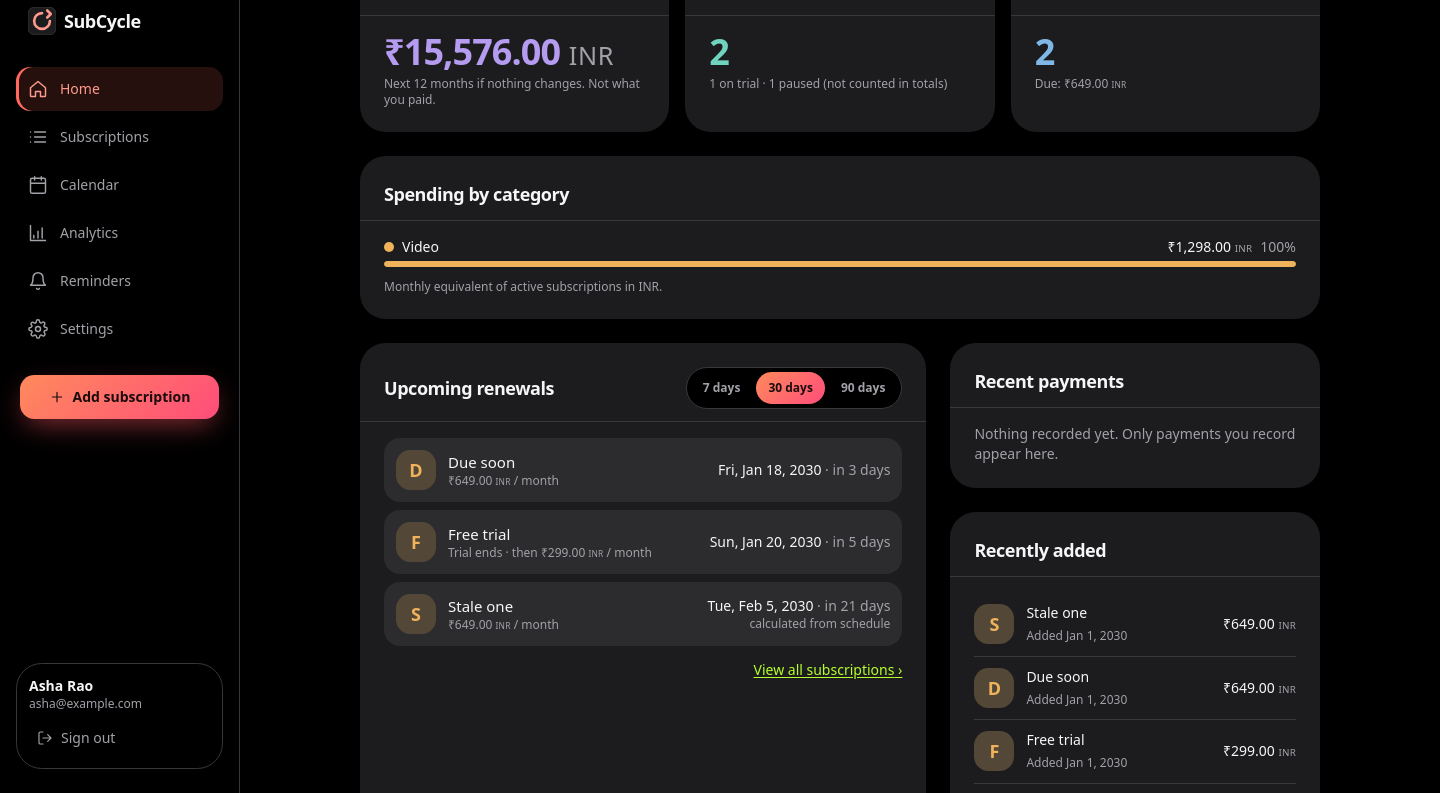
Test: upcoming renewals use the effective date › the window control filters the list (7 / 30 / 90 days)
This screenshot has width=1440, height=793.
(page scrolled)
Check: the text "Stale one" next to "Tue, Feb 5, 2030" is shown, box [448,596,513,616]
Click the button "7 days" at [722, 388], box [691,372,752,404]
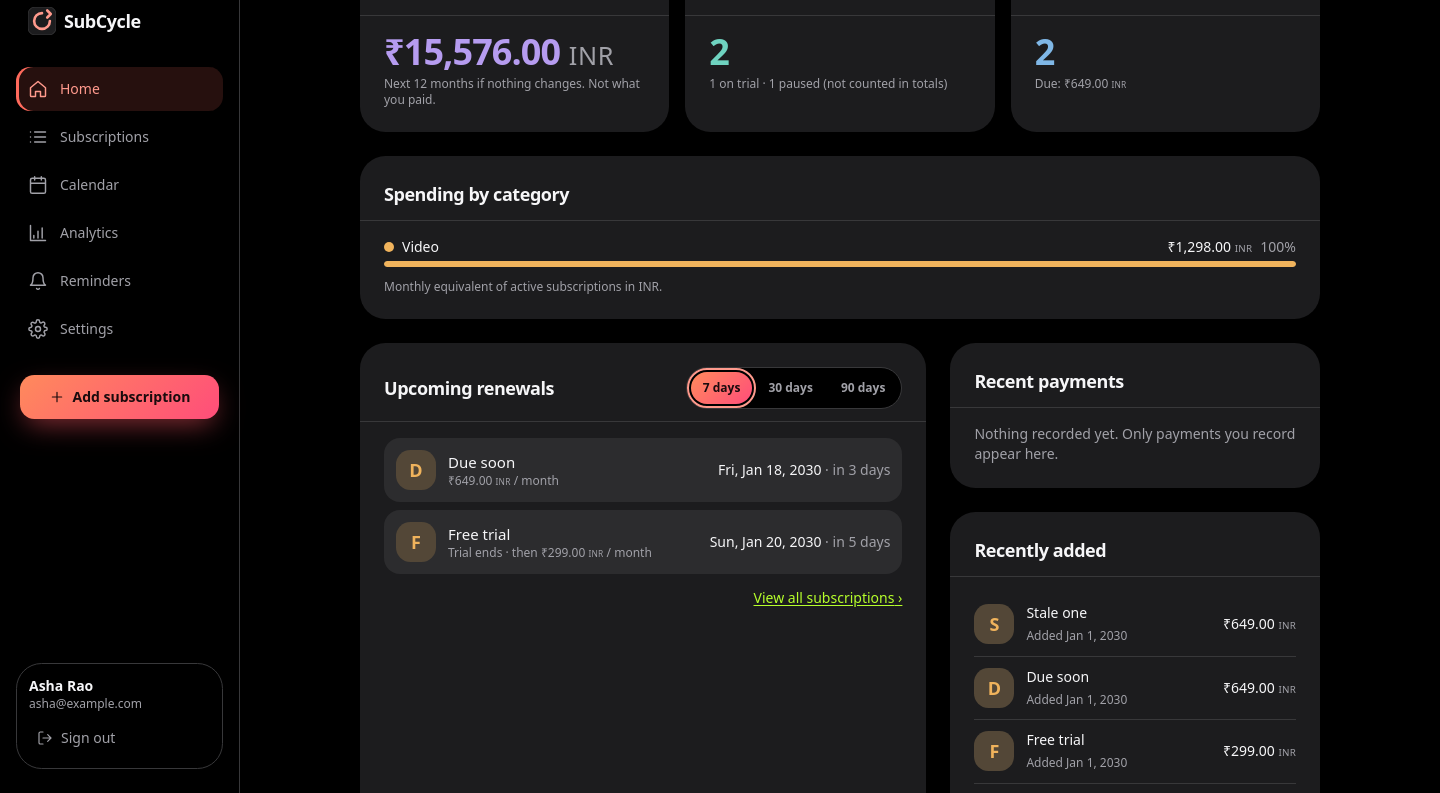
Check: the text "Due soon" next to "Fri, Jan 18, 2030" is shown, box [448,452,515,472]
Check: the button "7 days" is pressed, box [691,372,752,404]
Click the button "90 days" at [863, 388], box [829,372,897,404]
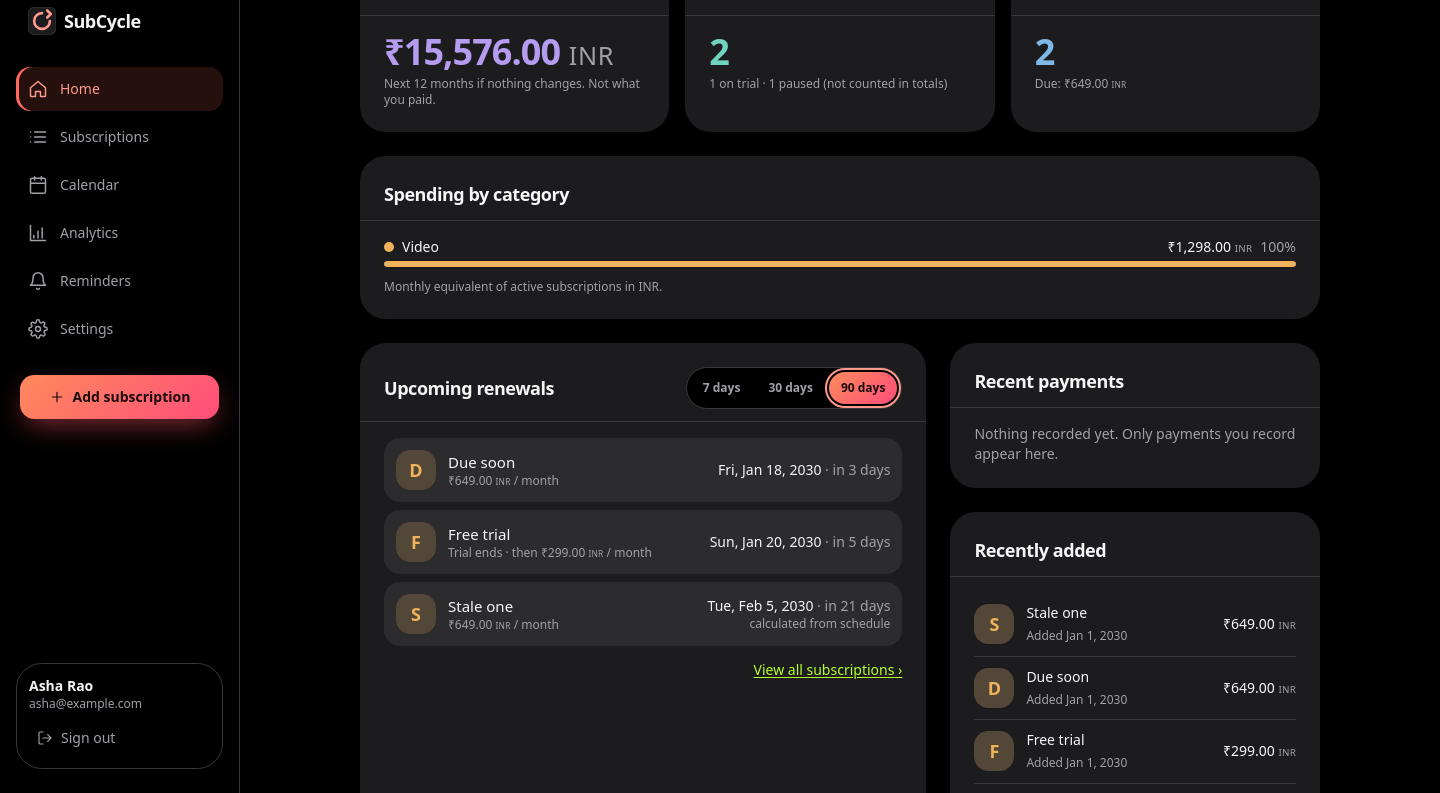
Check: the text "Stale one" next to "Tue, Feb 5, 2030" is shown, box [448,596,513,616]
